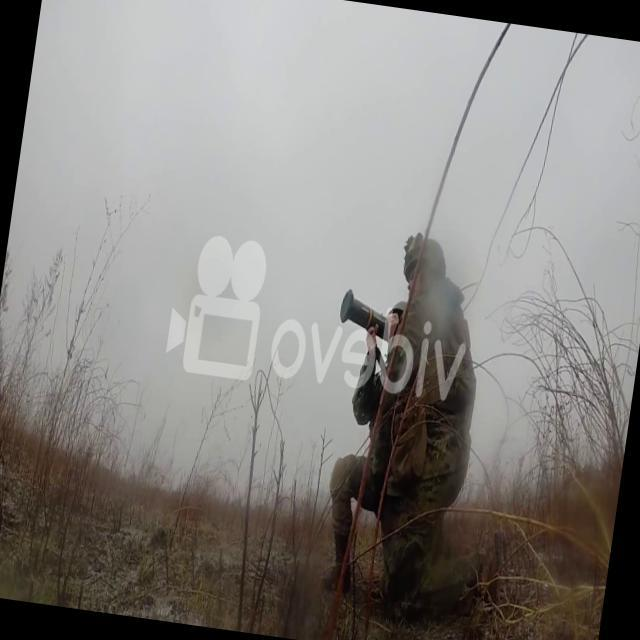rocket: (336, 284, 394, 348)
